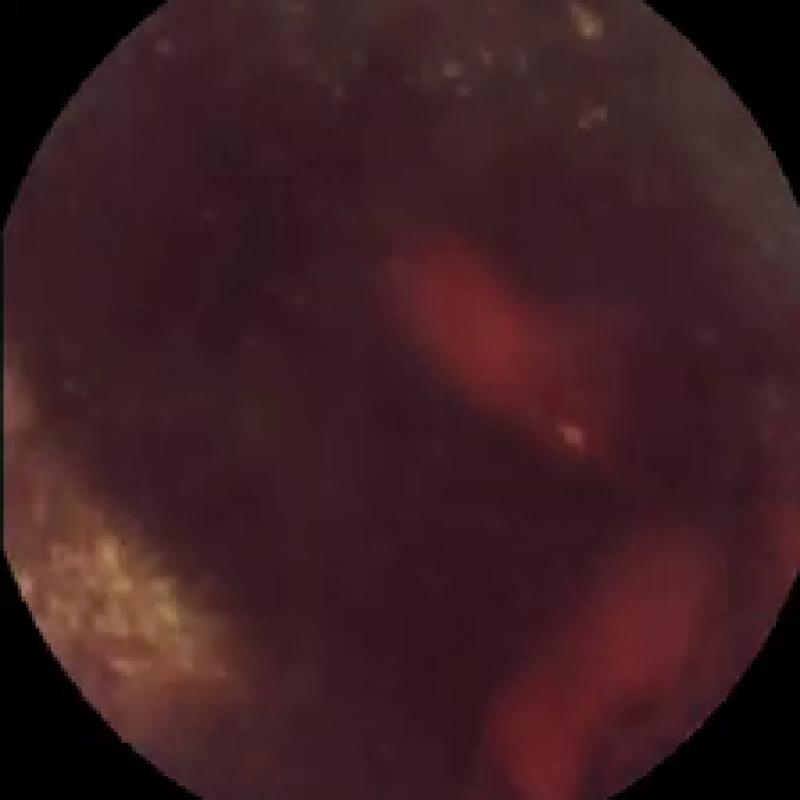bleeding: (486, 512, 726, 800), (386, 228, 636, 460)
